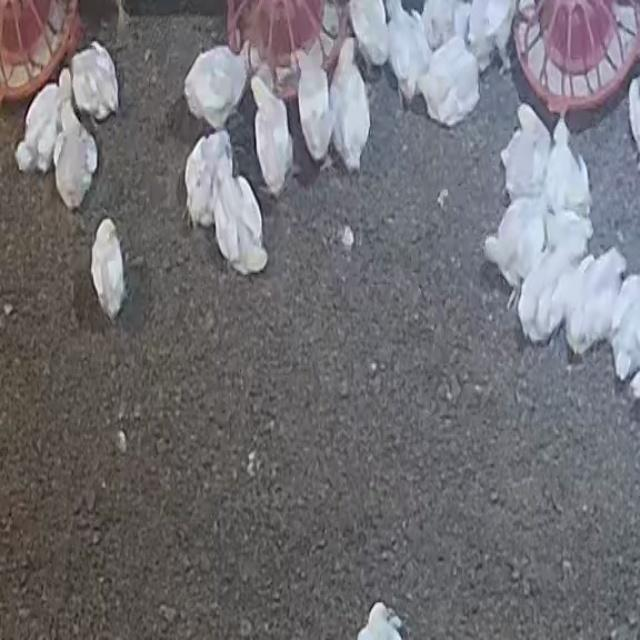chicken: (54, 68, 102, 212), (564, 252, 628, 360), (516, 239, 580, 345), (415, 34, 481, 128), (485, 197, 546, 294), (328, 39, 371, 175), (182, 45, 247, 134), (214, 173, 269, 274), (543, 115, 593, 224), (249, 75, 293, 197), (293, 42, 334, 168), (382, 1, 431, 104), (183, 129, 231, 229), (500, 105, 548, 202), (70, 40, 123, 121), (16, 84, 60, 178), (464, 0, 520, 73), (90, 216, 127, 324), (346, 0, 389, 69), (421, 0, 458, 52), (542, 211, 595, 247)
